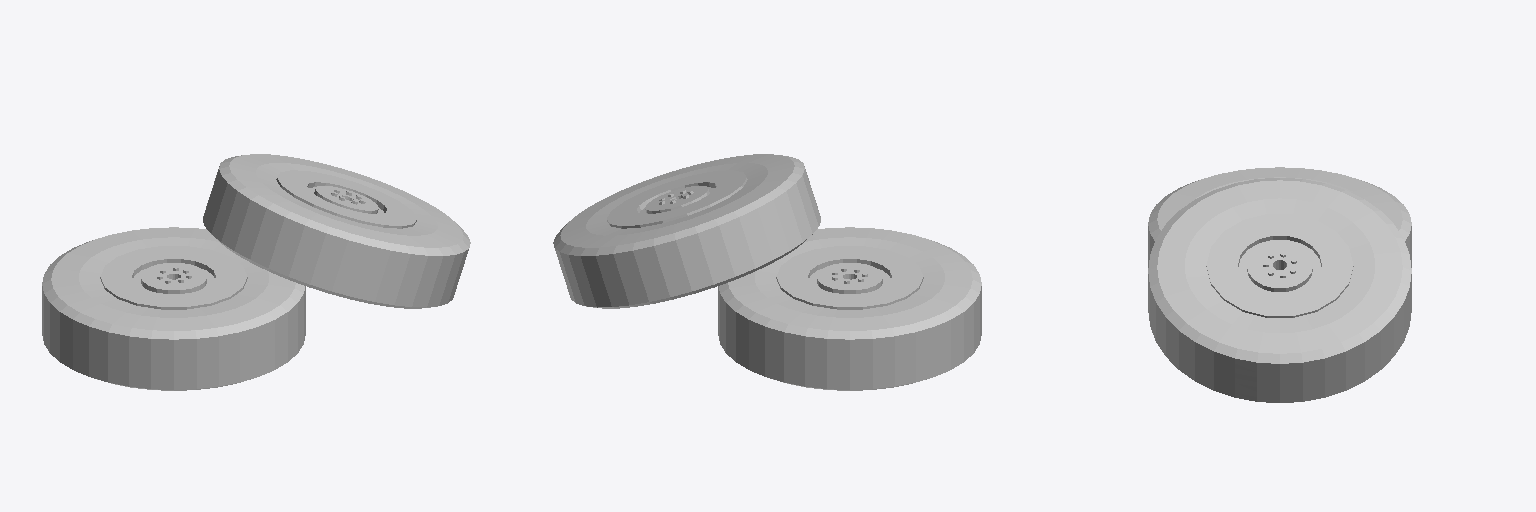
Rendered from tire.obj.
The picture shows the model from 3 angles: view 1: azimuth 30°, elevation 25°; view 2: azimuth 150°, elevation 25°; view 3: azimuth 270°, elevation 25°; orthographic projection.
Parts seen in each view (by area): view 1: Tube006; view 2: Tube006; view 3: Tube006.
Boxes of the visible parts, x1,y1,x2,y2 form: Tube006: [42, 154, 470, 390]; Tube006: [553, 154, 981, 390]; Tube006: [1148, 167, 1411, 402].
Size of the model in its own units: 48.71 by 16.86 by 28.36.